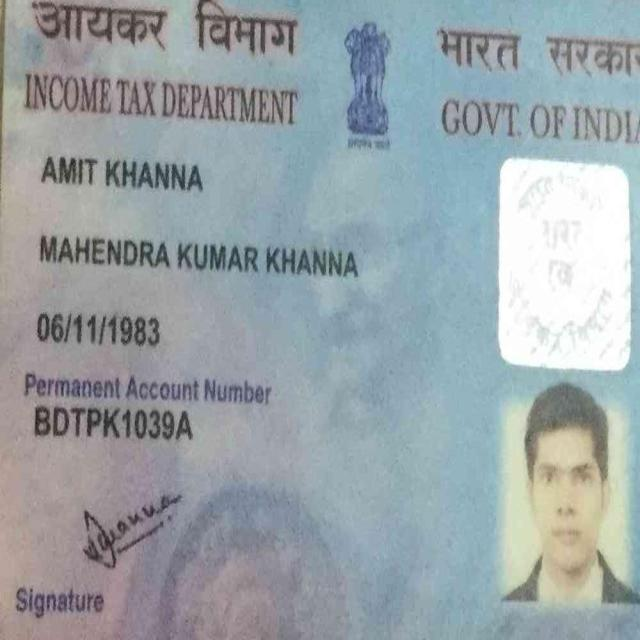pan_card: (5, 2, 640, 640)
